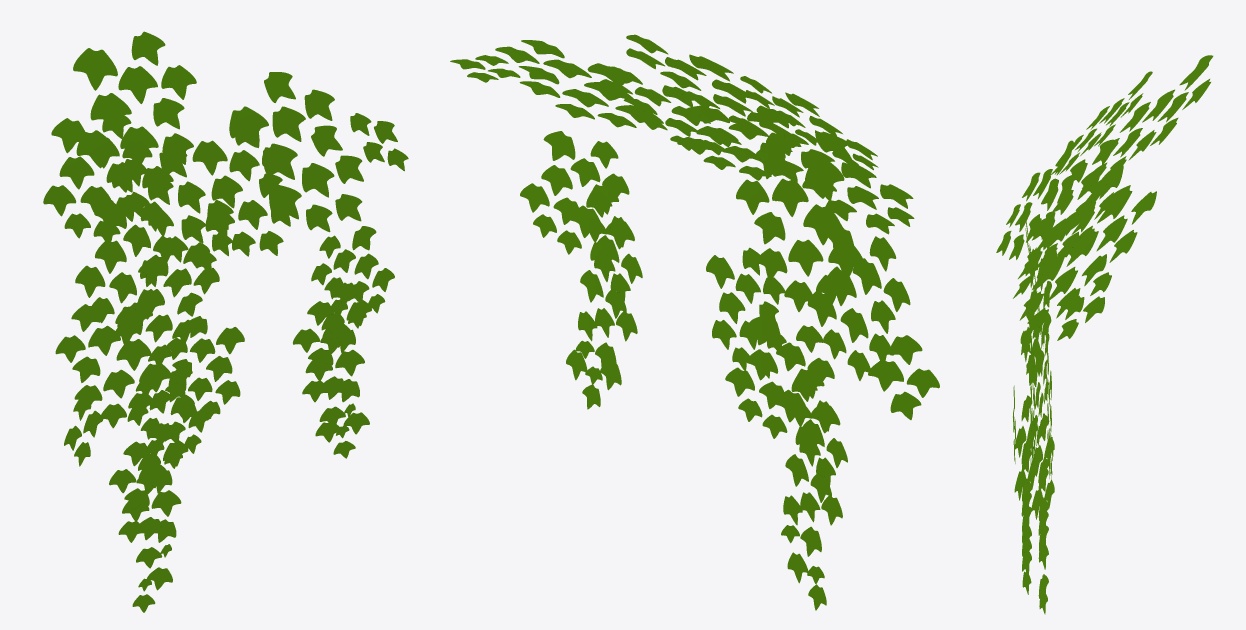
File: vine_2.glb
The picture shows the model from 3 angles, left to right: view 1: azimuth 30°, elevation 25°; view 2: azimuth 150°, elevation 25°; view 3: azimuth 270°, elevation 25°; orthographic projection. The views are drawn at different scales.
Parts seen in each view (by area): view 1: Prop_Vine5; view 2: Prop_Vine5; view 3: Prop_Vine5.
Boxes of the visible parts, <box> form: Prop_Vine5: <box>43,31,408,612</box>; Prop_Vine5: <box>450,34,939,610</box>; Prop_Vine5: <box>996,55,1213,614</box>.
Bounding box in the file's own units: 2.3 × 2.99 × 1.13.
1 material, 1 textured.
